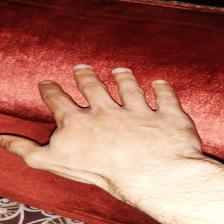five: (3, 62, 205, 178)
